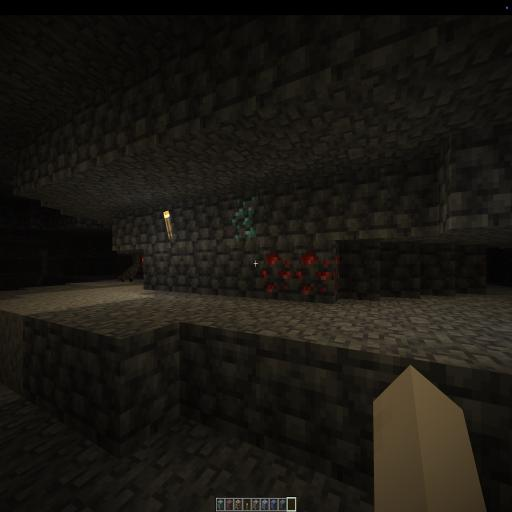diamond ore: (226, 194, 262, 245)
redstone ore: (259, 249, 347, 305)
